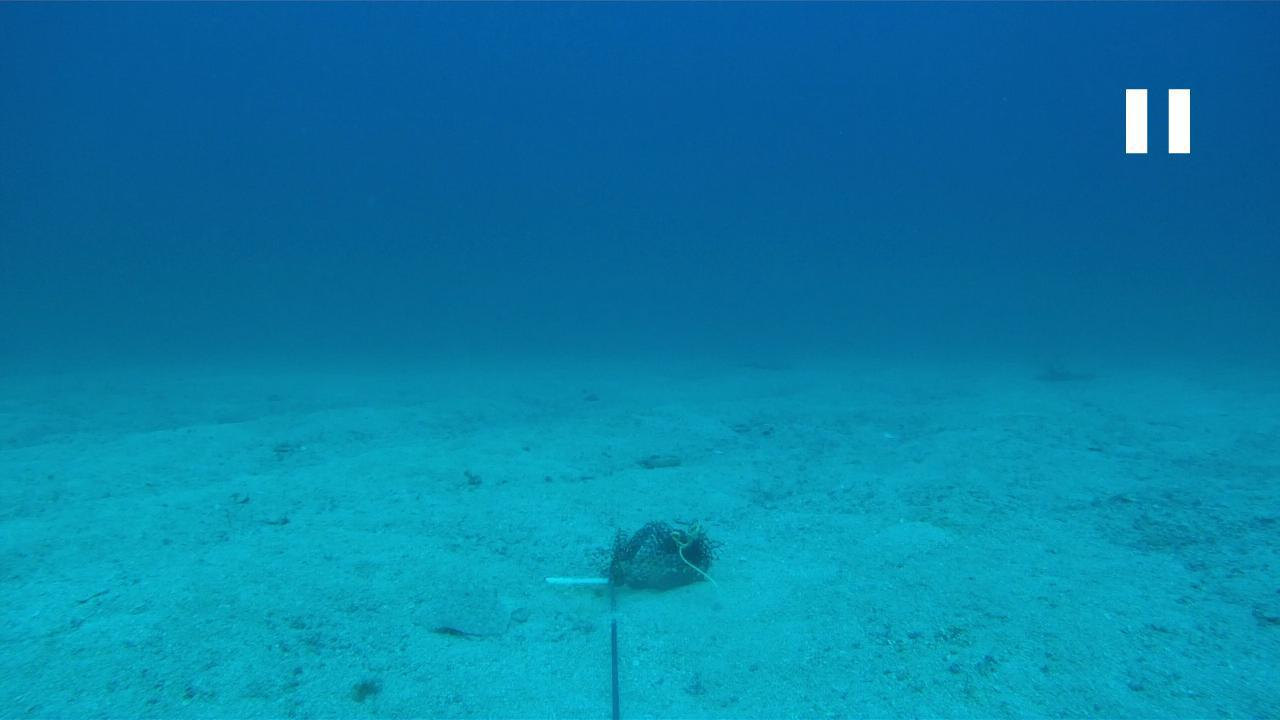bothus: (403, 582, 516, 639)
